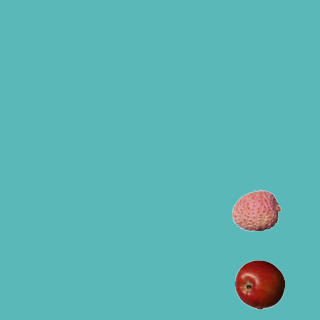Apple Braeburn: (234, 259, 284, 309)
Lychee: (231, 185, 281, 235)
